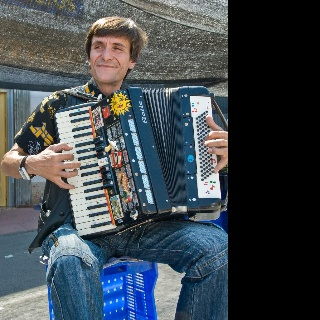without_mask: (88, 33, 132, 83)
